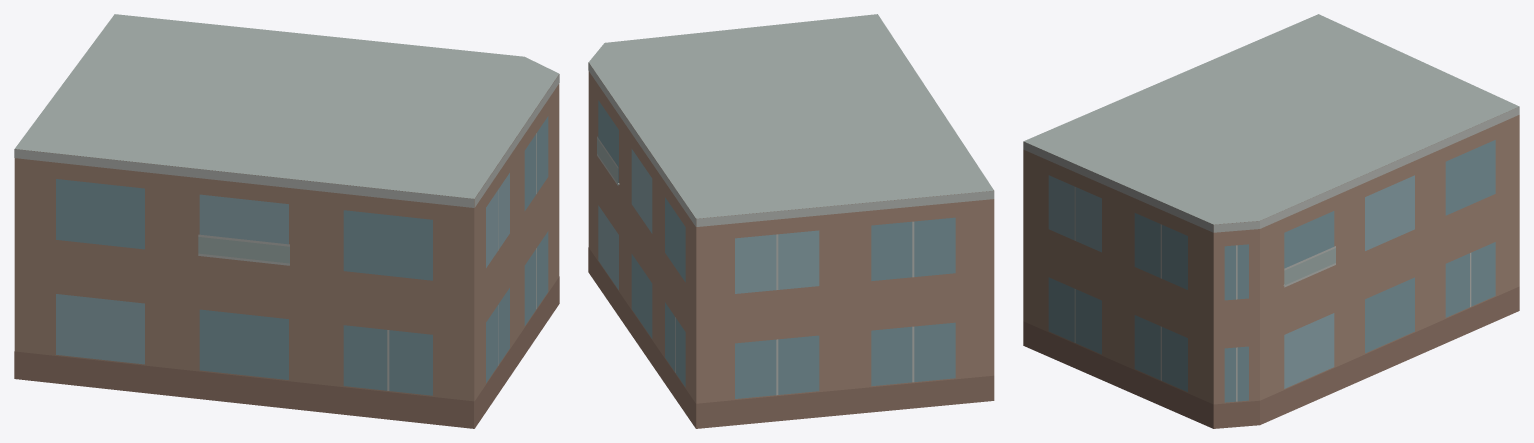
The model's file is survey-upis-32494771.glb.
3 renders of one model, left to right at view 1: azimuth 30°, elevation 25°; view 2: azimuth 150°, elevation 25°; view 3: azimuth 270°, elevation 25°, orthographic. The views are drawn at different scales.
Parts seen in each view (by area): view 1: survey-upis-32494771.tmp; view 2: survey-upis-32494771.tmp; view 3: survey-upis-32494771.tmp.
Part boxes in pixels (left/top/right/bottom): survey-upis-32494771.tmp: left=14, top=14, right=559, bottom=428; survey-upis-32494771.tmp: left=588, top=14, right=994, bottom=428; survey-upis-32494771.tmp: left=1023, top=14, right=1519, bottom=428.
Bounding box in the file's own units: 13.49 × 6.1 × 13.44.
